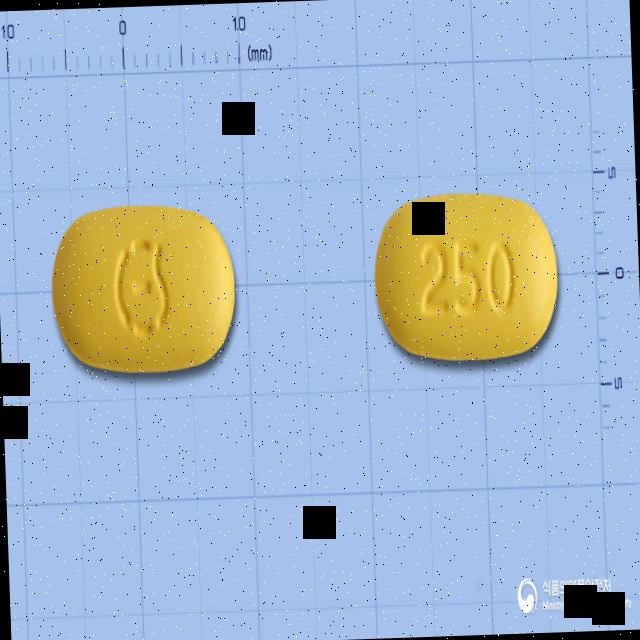Clarione -500mg: (48, 196, 242, 384), (369, 184, 564, 371)
